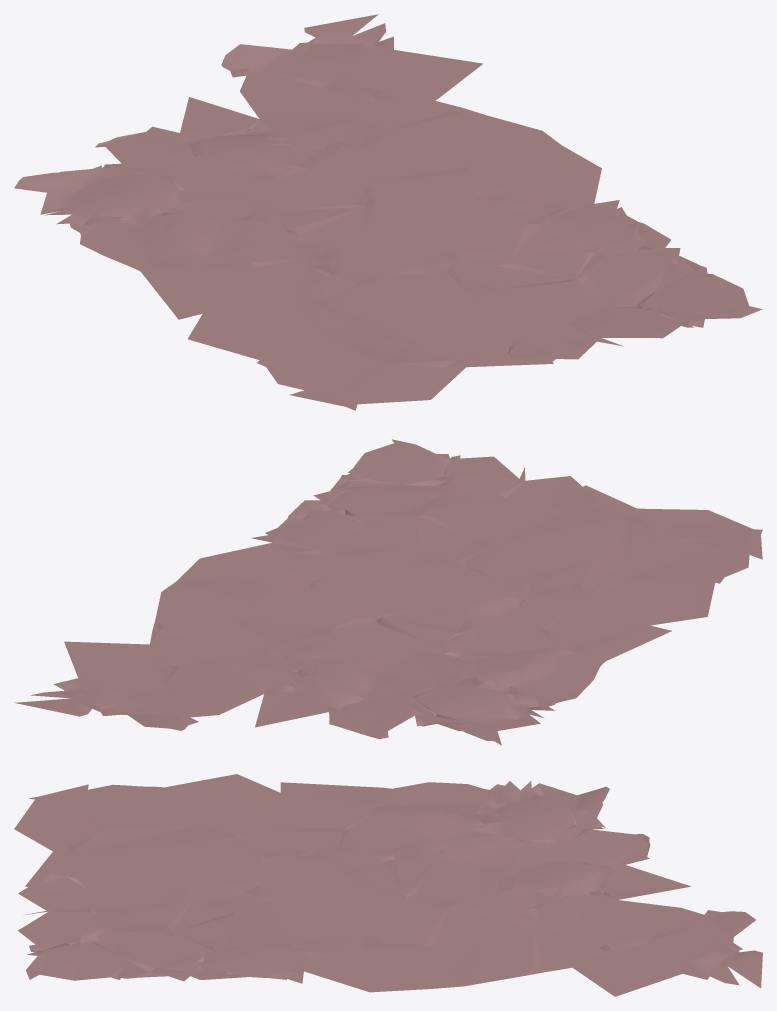
File: cliff_area_2.fbx_Cliff_Area_2_013LODs.fbx
3 renders of one model, top to bottom at view 1: azimuth 30°, elevation 25°; view 2: azimuth 150°, elevation 25°; view 3: azimuth 270°, elevation 25°, orthographic. The views are drawn at different scales.
Parts seen in each view (by area): view 1: Cliff Area 2.013_LOD0; view 2: Cliff Area 2.013_LOD0; view 3: Cliff Area 2.013_LOD0.
Boxes of the visible parts, x1,y1,x2,y2 form: Cliff Area 2.013_LOD0: (14, 14, 762, 410); Cliff Area 2.013_LOD0: (14, 439, 762, 745); Cliff Area 2.013_LOD0: (14, 774, 762, 996).
Size of what is drawn, in the model's own units: 5436 by 79.14 by 7672.
